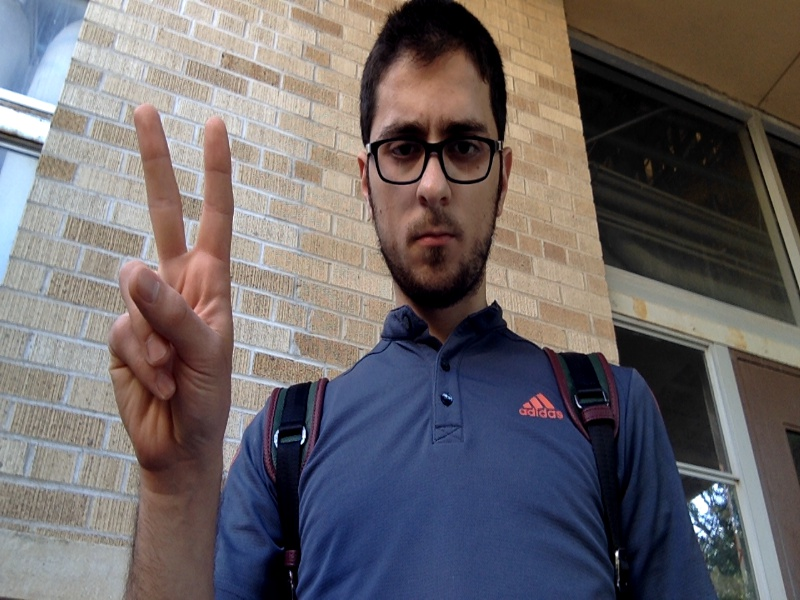2-hand: (112, 105, 231, 479)
